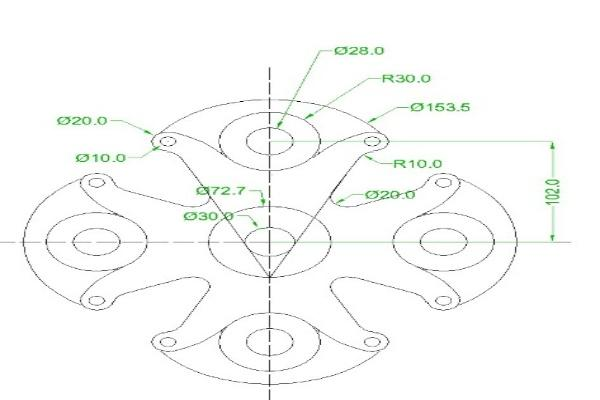dimensions: (410, 96, 481, 116), (330, 38, 392, 60), (382, 66, 440, 88), (183, 206, 236, 227), (71, 151, 131, 168), (188, 182, 249, 198), (392, 155, 446, 173), (53, 112, 116, 127), (364, 188, 419, 203), (542, 174, 564, 206)
